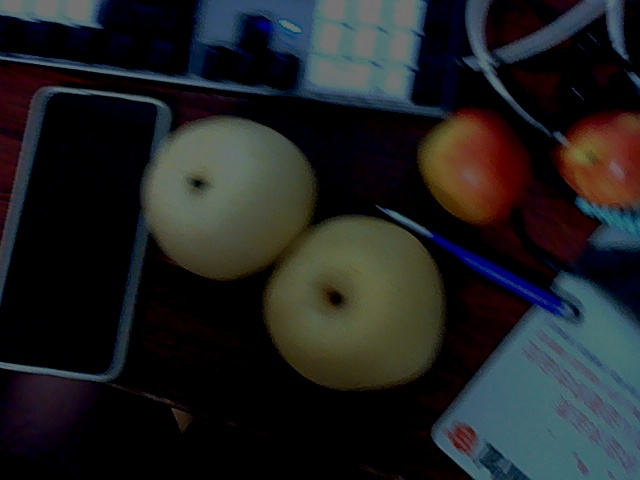peach: (419, 107, 538, 222), (560, 104, 640, 211)
pear: (274, 220, 442, 392), (140, 121, 300, 275)
